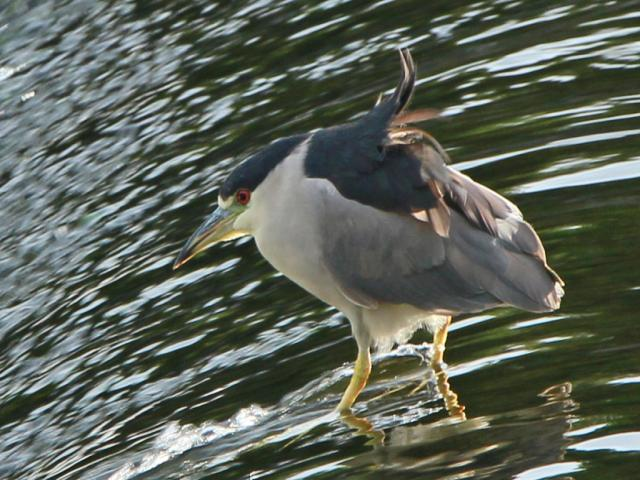Bird: (173, 41, 567, 436)
